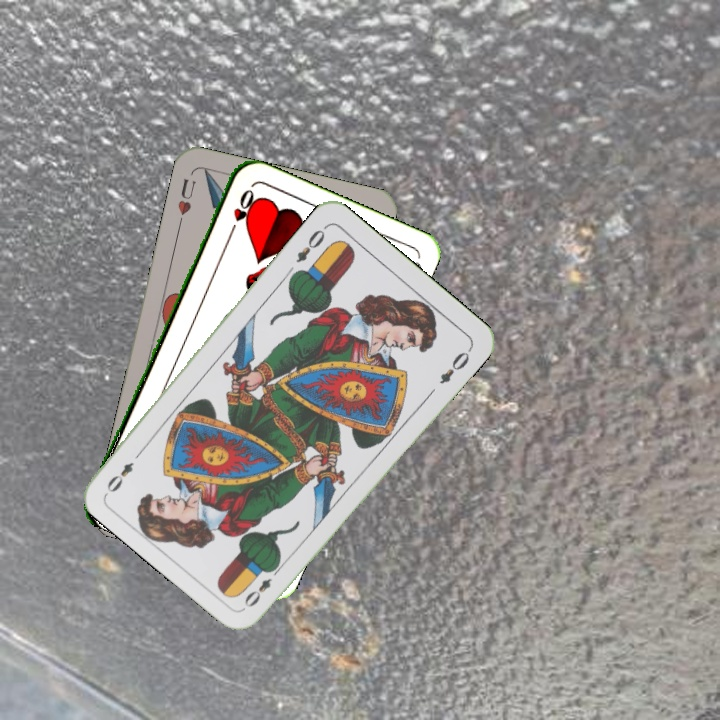EO: (240, 561, 284, 611), (292, 221, 330, 266)
HO: (225, 184, 256, 240)
HU: (173, 174, 199, 229)
